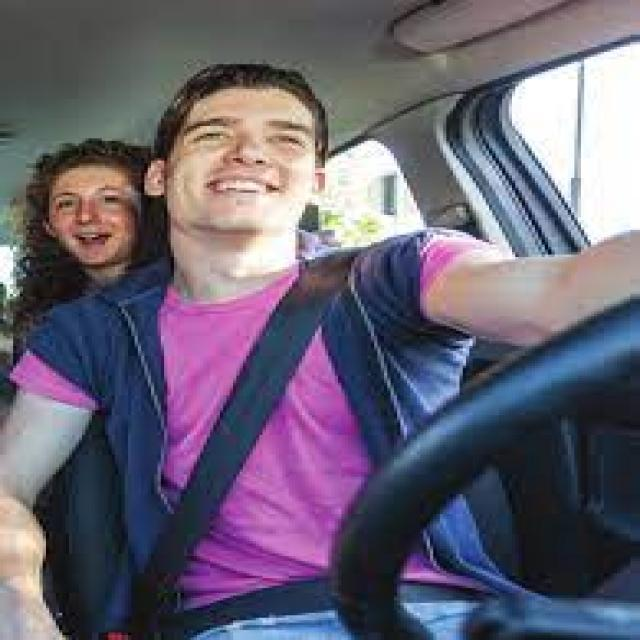seatbelt: (85, 208, 384, 638)
